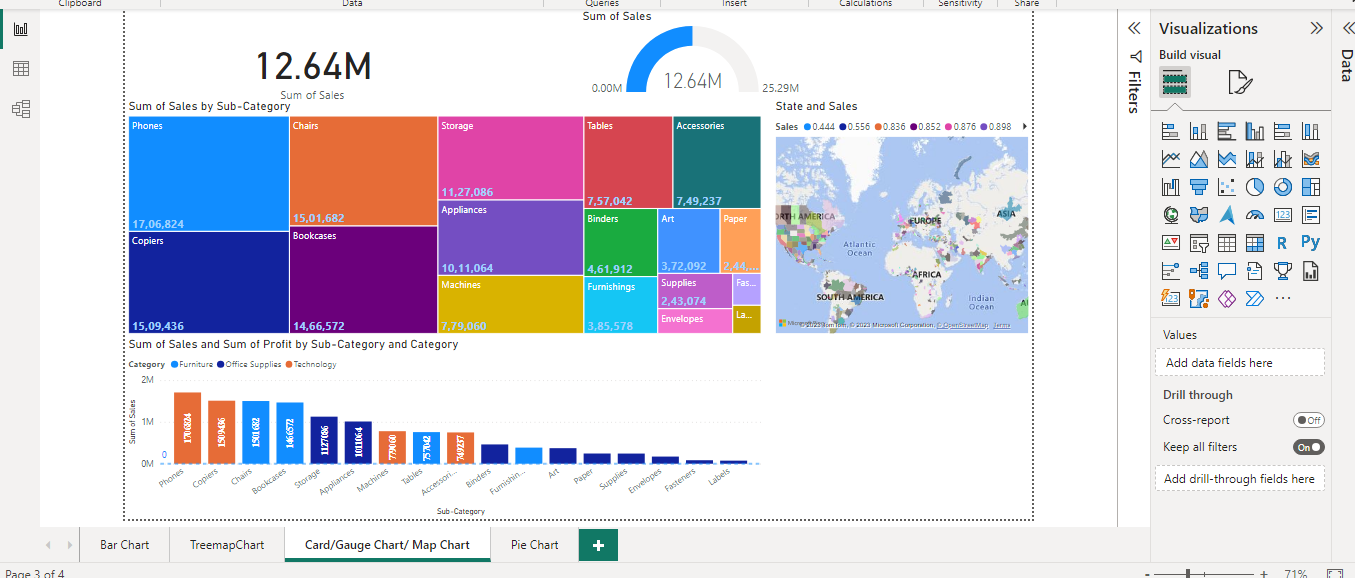

Layout of this report page (visuals, bound fields, positions):
{"tool":"powerbi","page":{"name":"Card/Gauge Chart/ Map Chart","canvas":[1280,720],"ordinal":2},"visuals":[{"type":"card","fields":{"Values":["Sum(Orders.Sales)"]},"box":[105.7,0,317.1,166.1],"z":0},{"type":"gauge","fields":{"Y":["Sum(Orders.Sales)"]},"box":[640.8,0,328.8,127.5],"z":1000},{"type":"columnChart","fields":{"Category":["Orders.Sub-Category"],"Y":["Sum(Orders.Sales)"],"Series":["Orders.Category"]},"box":[0,463,902.5,256.7],"z":2000},{"type":"treemap","fields":{"Values":["Sum(Orders.Sales)"],"Group":["Orders.Sub-Category"]},"box":[0,127.5,902.5,335.5],"z":3000},{"type":"filledMap","fields":{"Category":["Orders.State"],"Series":["Orders.Sales"]},"box":[913,127,367,336],"z":4000}]}

Visuals, with their boxes on the page's 1280x720 design canvas (x1, y1, x2, y2). These are canvas units, not pixel positions in the 1355x578 screenshot, which may show the page scaled, cropped or inside an application window:
card - Sum(Orders.Sales): 106:0:423:166
gauge - Sum(Orders.Sales): 641:0:970:128
columnChart - Orders.Sub-Category x Sum(Orders.Sales): 0:463:902:720
treemap - Sum(Orders.Sales) x Orders.Sub-Category: 0:128:902:463
filledMap - Orders.State x Orders.Sales: 913:127:1280:463
